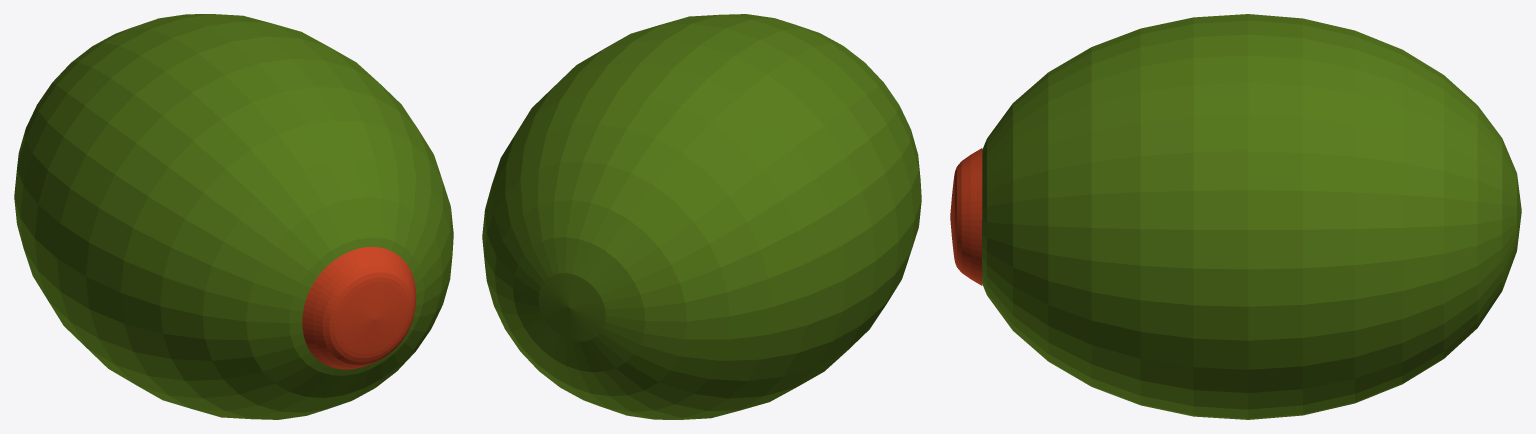
The model's file is Aceituna.glb.
3 renders of one model, left to right at view 1: azimuth 30°, elevation 25°; view 2: azimuth 150°, elevation 25°; view 3: azimuth 270°, elevation 25°, orthographic. The views are drawn at different scales.
Visible parts, largest first — view 1: Sphere, Sphere.001; view 2: Sphere; view 3: Sphere, Sphere.001.
Boxes of the visible parts, x1,y1,x2,y2 form: Sphere: (14, 14, 453, 419); Sphere.001: (302, 247, 415, 369); Sphere: (482, 14, 921, 419); Sphere: (982, 14, 1521, 419); Sphere.001: (950, 148, 982, 285).
Bounding box in the file's own units: 0.1239 × 0.1174 × 0.1666.
